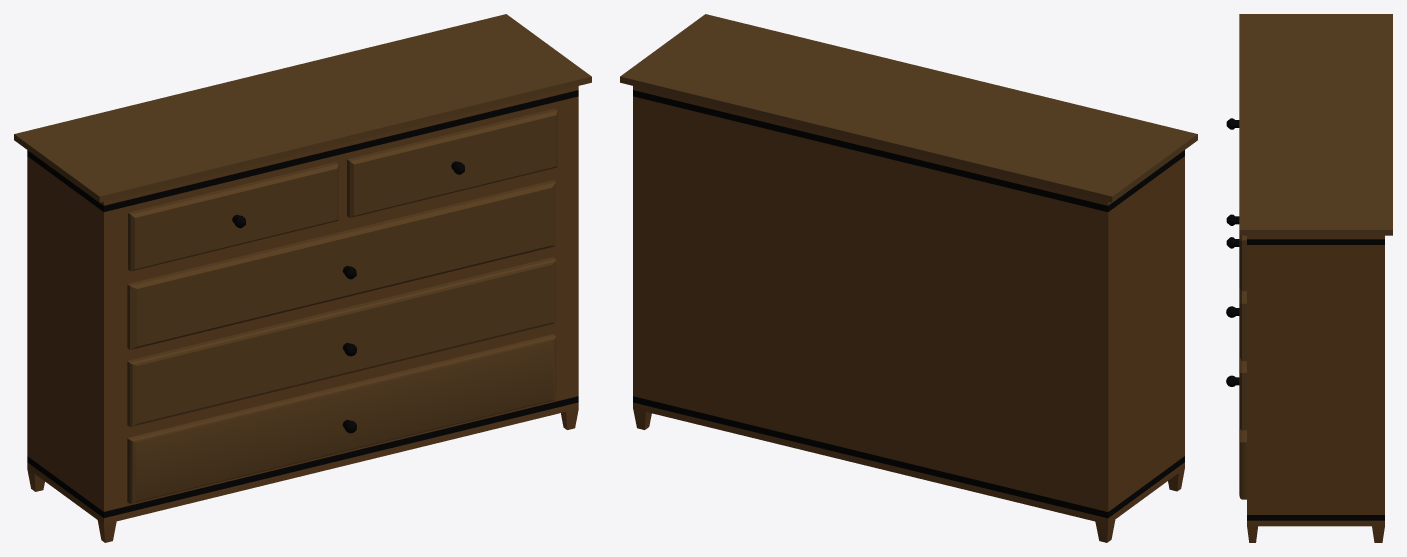
Rendered from MUEBLE_Normal.fbx.
The picture shows the model from 3 angles, left to right: view 1: azimuth 30°, elevation 25°; view 2: azimuth 150°, elevation 25°; view 3: azimuth 270°, elevation 25°; orthographic projection. The views are drawn at different scales.
Parts seen in each view (by area): view 1: Cube, Cube.001, Cube.004, Cube.008, Cube.003, Cube.002; view 2: Cube, Cube.001; view 3: Cube, Cube.001, Cube.003, Cube.004, Cube.008, Cube.002.
Boxes of the visible parts, x1=… form: Cube: x1=27, y1=86, x2=578, y2=542; Cube.001: x1=14, y1=14, x2=591, y2=202; Cube.004: x1=127, y1=257, x2=555, y2=426; Cube.008: x1=127, y1=334, x2=555, y2=503; Cube.003: x1=127, y1=180, x2=555, y2=349; Cube.002: x1=128, y1=108, x2=557, y2=271; Cube: x1=633, y1=86, x2=1184, y2=542; Cube.001: x1=620, y1=14, x2=1197, y2=202; Cube: x1=1247, y1=235, x2=1384, y2=542; Cube.001: x1=1239, y1=14, x2=1392, y2=235; Cube.003: x1=1239, y1=288, x2=1246, y2=361; Cube.004: x1=1239, y1=357, x2=1246, y2=430; Cube.008: x1=1239, y1=427, x2=1246, y2=499; Cube.002: x1=1239, y1=235, x2=1246, y2=291.
Bounding box in the file's own units: 626 × 429 × 204.
